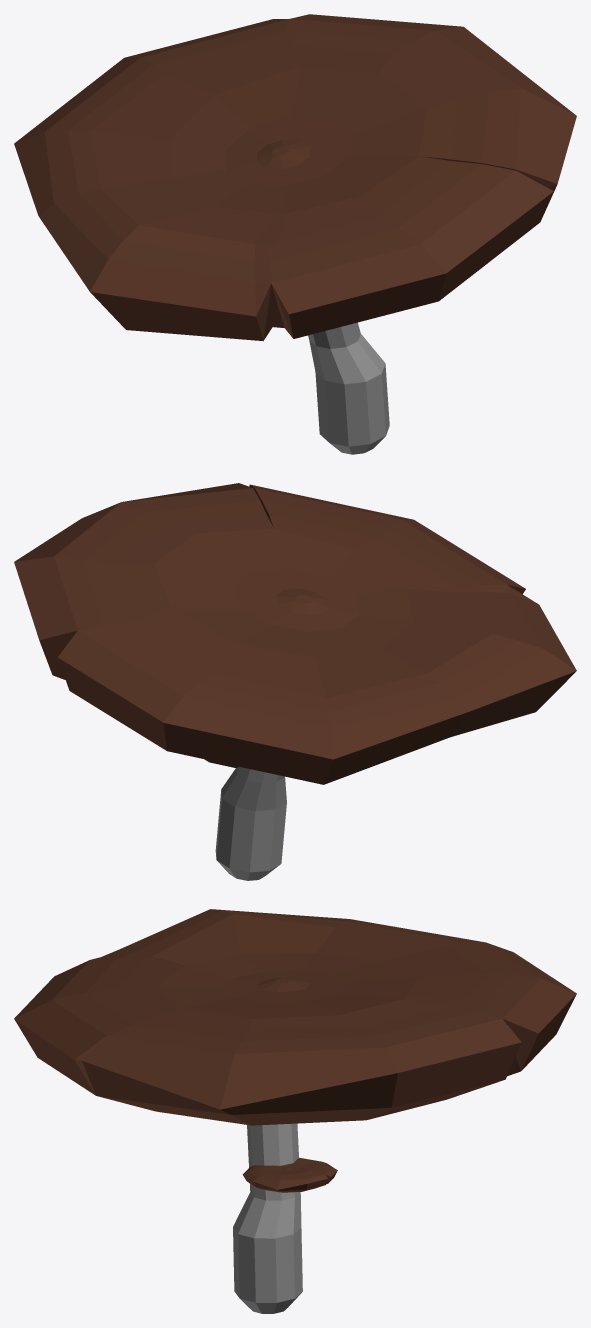
Rendered from Pilz4.fbx.
The picture shows the model from 3 angles, top to bottom: view 1: azimuth 30°, elevation 25°; view 2: azimuth 150°, elevation 25°; view 3: azimuth 270°, elevation 25°; orthographic projection. The views are drawn at different scales.
Visible parts, largest first — view 1: Brauner Pilz; view 2: Brauner Pilz; view 3: Brauner Pilz.
Boxes of the visible parts, box(x1,y1,x2,y2) form: Brauner Pilz: box(14, 14, 576, 454); Brauner Pilz: box(14, 483, 576, 880); Brauner Pilz: box(14, 909, 576, 1313).
Size of the model in its own units: 2278 by 1474 by 2296.
